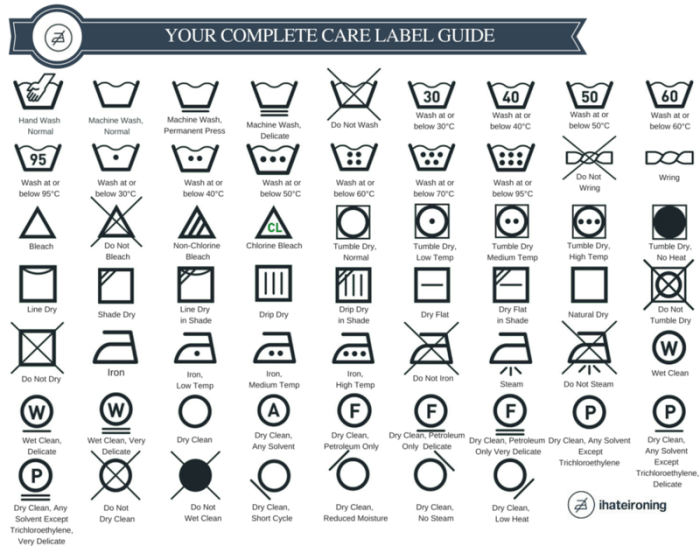do_not_bleach: (91, 198, 140, 240)
do_not_dry_clean: (173, 450, 218, 499), (94, 455, 139, 498)
do_not_iron: (564, 326, 616, 377), (406, 321, 455, 371)
do_not_wash: (325, 64, 380, 119)
